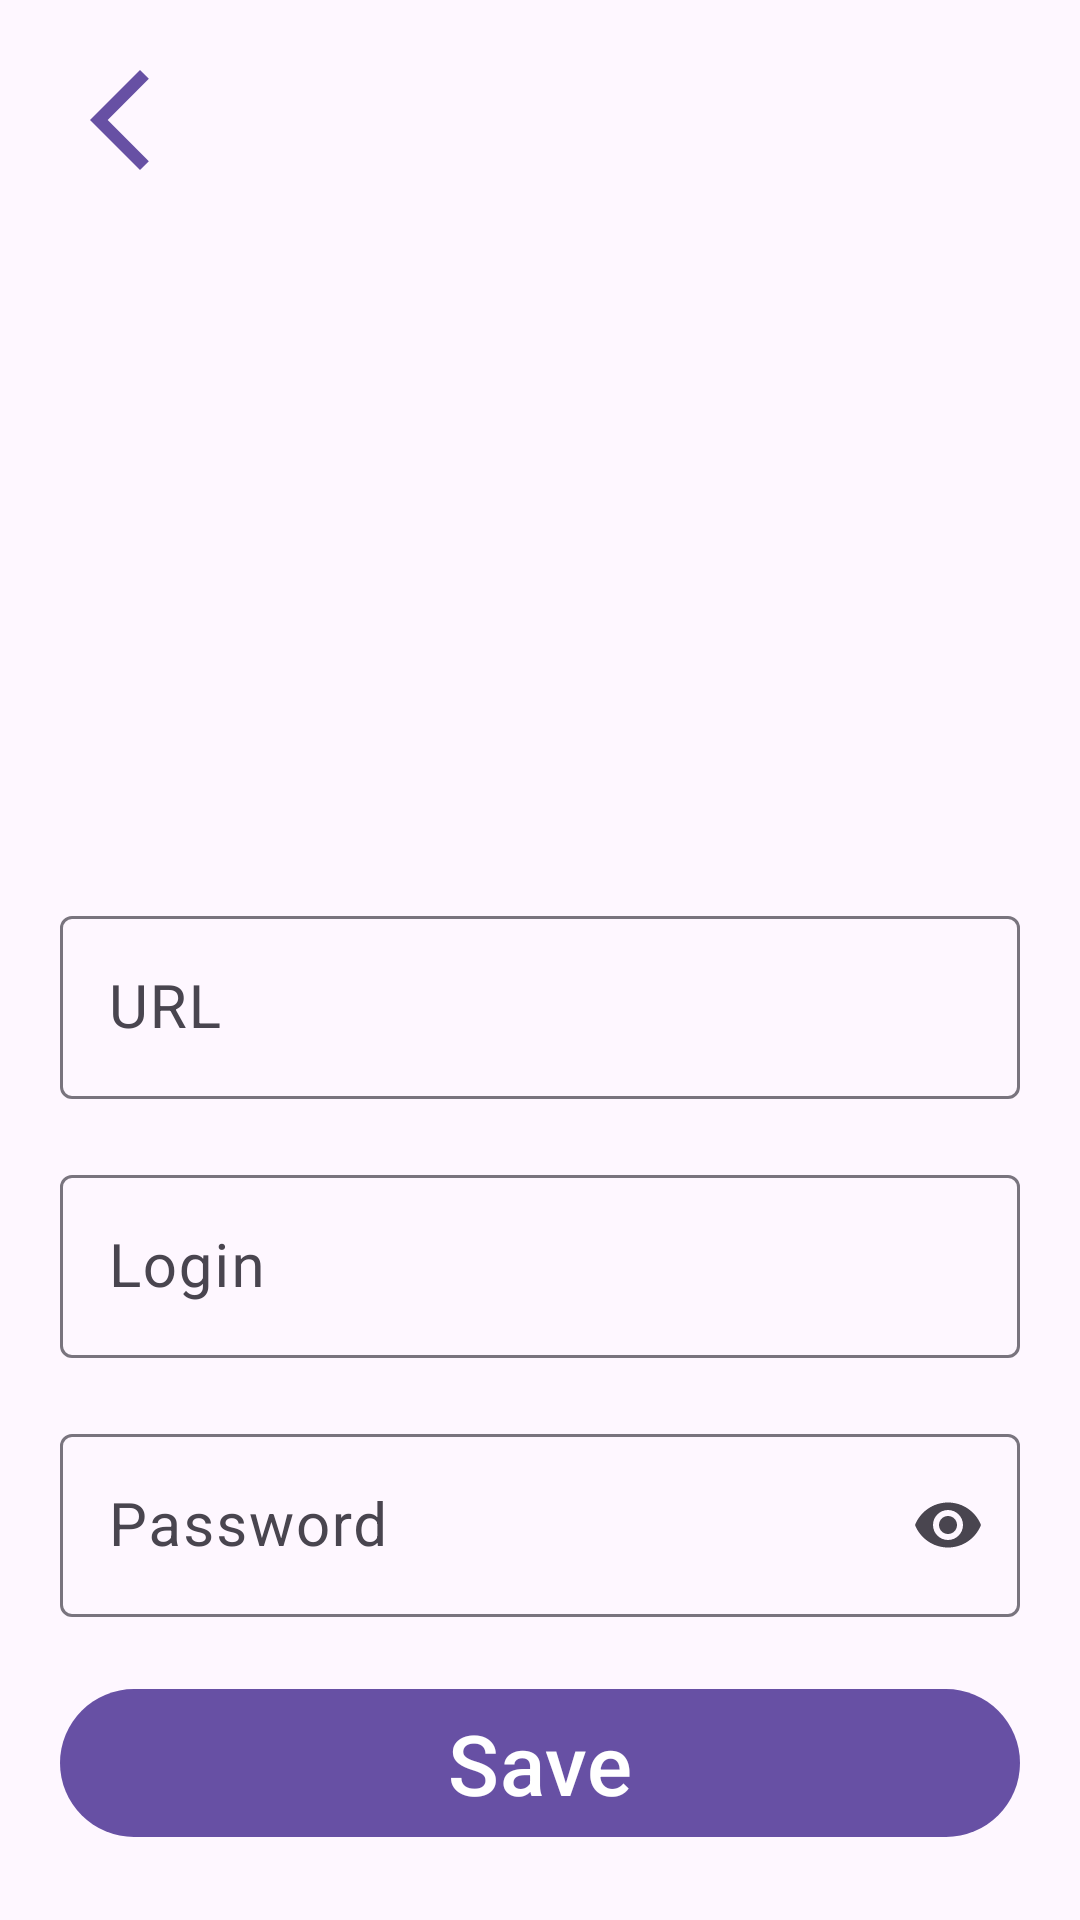

Where to tap for icons on this 1080w x 1920h app screen, as point (x, y):
arrow back: point (119, 120)
